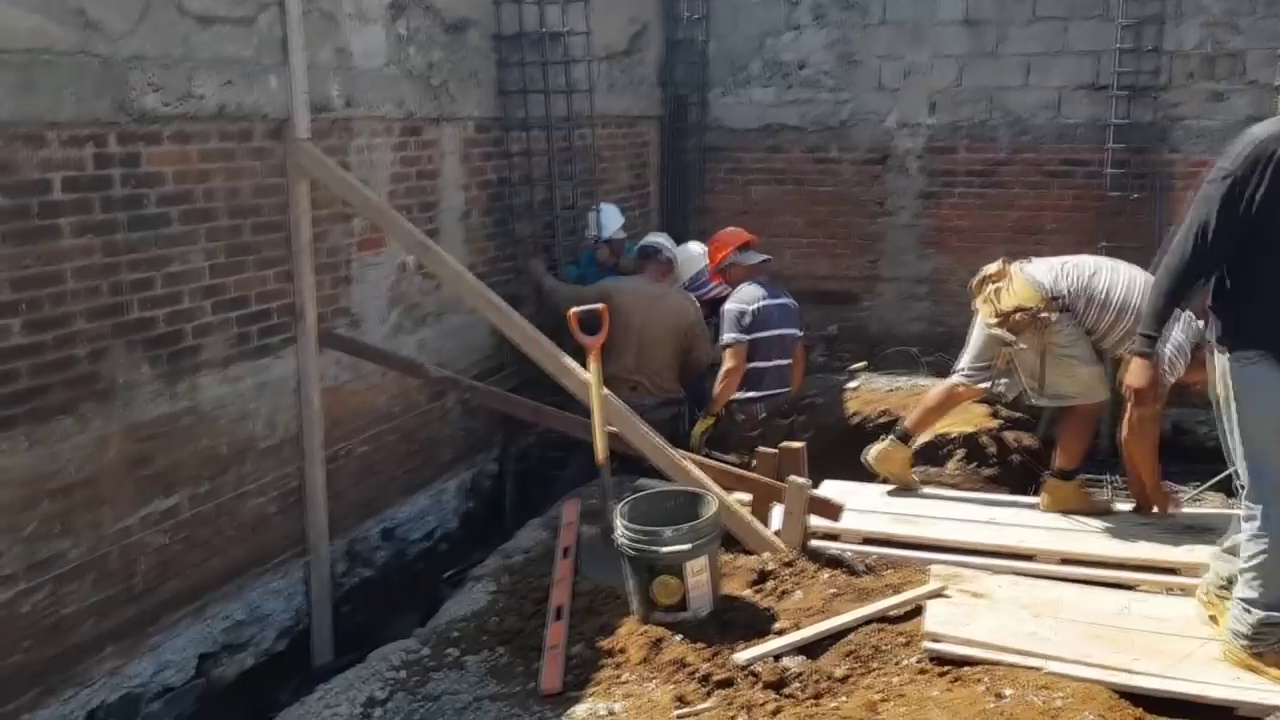helmet: (700, 224, 762, 274), (630, 232, 680, 267), (585, 200, 626, 242), (674, 241, 710, 284)
helmet-on: (701, 223, 775, 292), (583, 200, 626, 263), (674, 241, 718, 302), (628, 231, 678, 282)
person: (1124, 87, 1280, 683), (861, 255, 1208, 516), (533, 234, 696, 438), (698, 229, 804, 450)
